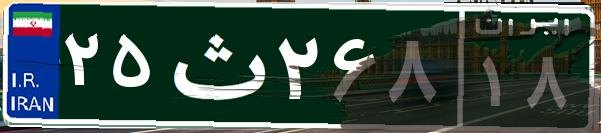1: (475, 38, 525, 113)
2: (273, 28, 330, 110), (57, 26, 110, 107)
5: (110, 28, 158, 105)
6: (330, 28, 385, 110)
8: (385, 28, 445, 110), (525, 38, 570, 115)
ث: (158, 15, 273, 115)
